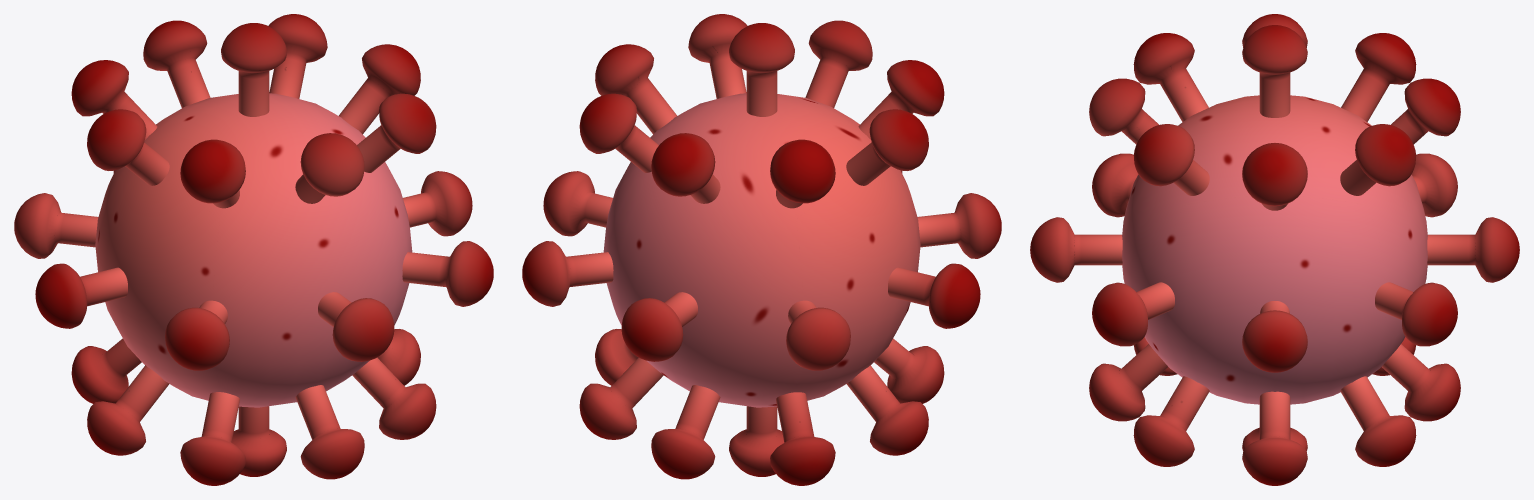
File: Mob.fbx
3 renders of one model, left to right at view 1: azimuth 30°, elevation 25°; view 2: azimuth 150°, elevation 25°; view 3: azimuth 270°, elevation 25°, orthographic.
Parts seen in each view (by area): view 1: MOB, MOB_Crow.011, MOB_Crow.004, MOB_Crow.013, MOB_Crow.023, MOB_Crow.008, MOB_Crow.007, MOB_Crow.002, MOB_Crow.009, MOB_Crow.017, MOB_Crow.020, MOB_Crow.005 (+11 smaller); view 2: MOB, MOB_Crow.011, MOB_Crow.004, MOB_Crow.014, MOB_Crow.018, MOB_Crow.008, MOB_Crow.007, MOB_Crow.022, MOB_Crow.012, MOB_Crow.024, MOB_Crow.025, MOB_Crow.005 (+11 smaller); view 3: MOB, MOB_Crow.006, MOB_Crow.011, MOB_Crow.009, MOB_Crow.012, MOB_Crow.024, MOB_Crow.017, MOB_Crow.002, MOB_Crow.022, MOB_Crow.020, MOB_Crow.025, MOB_Crow.019 (+10 smaller).
Part boxes in pixels (x1,y1,x2,y2): MOB: (95,93,412,407); MOB_Crow.011: (221,23,286,116); MOB_Crow.004: (35,263,127,328); MOB_Crow.013: (295,385,364,479); MOB_Crow.023: (180,392,245,485); MOB_Crow.008: (87,109,169,185); MOB_Crow.007: (87,365,169,455); MOB_Crow.002: (402,241,493,306); MOB_Crow.009: (318,292,394,361); MOB_Crow.017: (352,357,436,439); MOB_Crow.020: (357,93,436,172); MOB_Crow.005: (339,44,420,134); MOB: (603,93,920,407); MOB_Crow.011: (729,23,794,116); MOB_Crow.004: (888,263,980,328); MOB_Crow.014: (651,385,720,479); MOB_Crow.018: (770,392,835,485); MOB_Crow.008: (846,109,928,185); MOB_Crow.007: (846,365,928,455); MOB_Crow.022: (522,241,613,306); MOB_Crow.012: (621,292,697,361); MOB_Crow.024: (579,357,663,439); MOB_Crow.025: (579,93,658,172); MOB_Crow.005: (595,44,676,134); MOB: (1122,95,1427,404); MOB_Crow.006: (1242,391,1307,485); MOB_Crow.011: (1242,25,1307,117); MOB_Crow.009: (1030,217,1122,282); MOB_Crow.012: (1427,217,1519,282); MOB_Crow.024: (1340,376,1416,466); MOB_Crow.017: (1133,376,1209,466); MOB_Crow.002: (1092,282,1174,346); MOB_Crow.022: (1375,282,1457,346); MOB_Crow.020: (1133,124,1209,195); MOB_Crow.025: (1340,124,1416,195); MOB_Crow.019: (1341,33,1416,121).
Size of the model in its own units: 267 by 267 by 267.
Materials: 1 (1 with a texture image).
